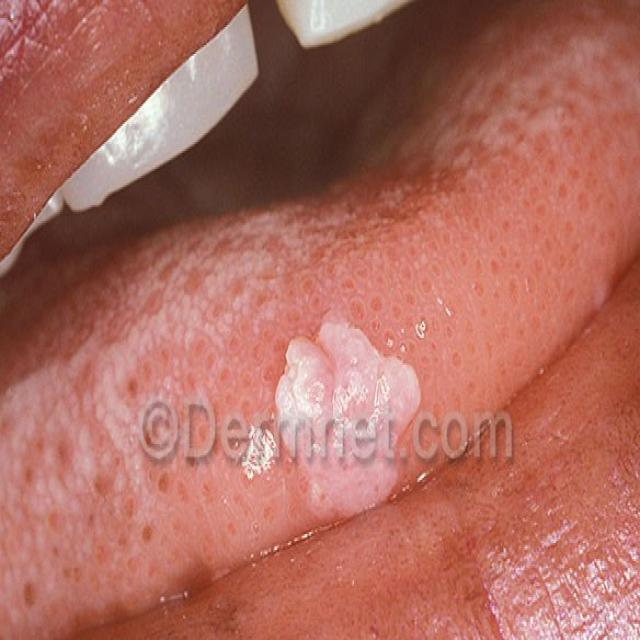Warts: (243, 290, 427, 528)
